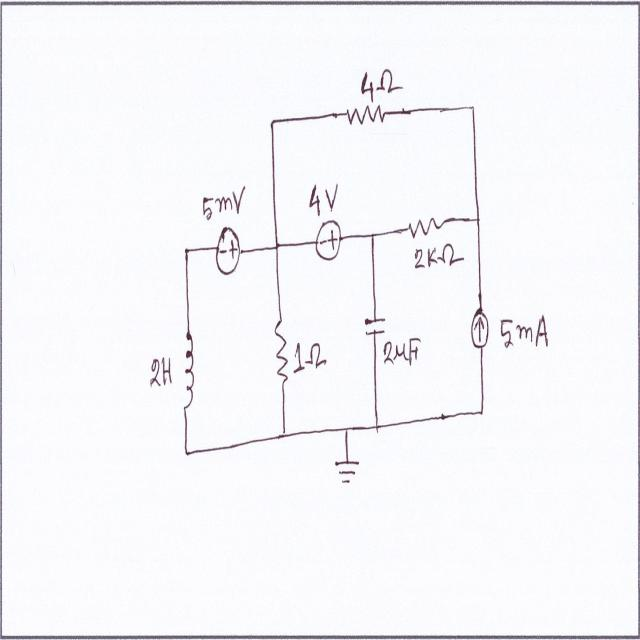capacitor: (360, 307, 388, 342)
current_source: (467, 297, 492, 356)
ground: (332, 449, 360, 489)
inductor: (182, 316, 197, 419)
resistor: (406, 202, 451, 243), (271, 308, 291, 398), (343, 96, 389, 133)
voltage_source: (214, 219, 242, 282), (314, 215, 344, 268)
